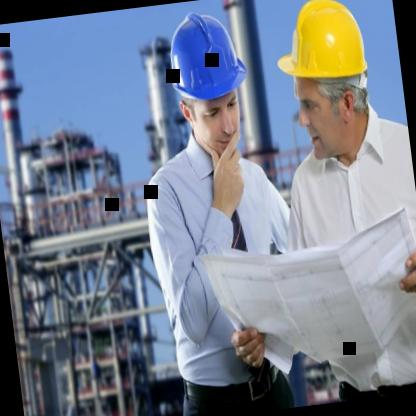helmet: (145, 0, 265, 185), (273, 0, 389, 177)
